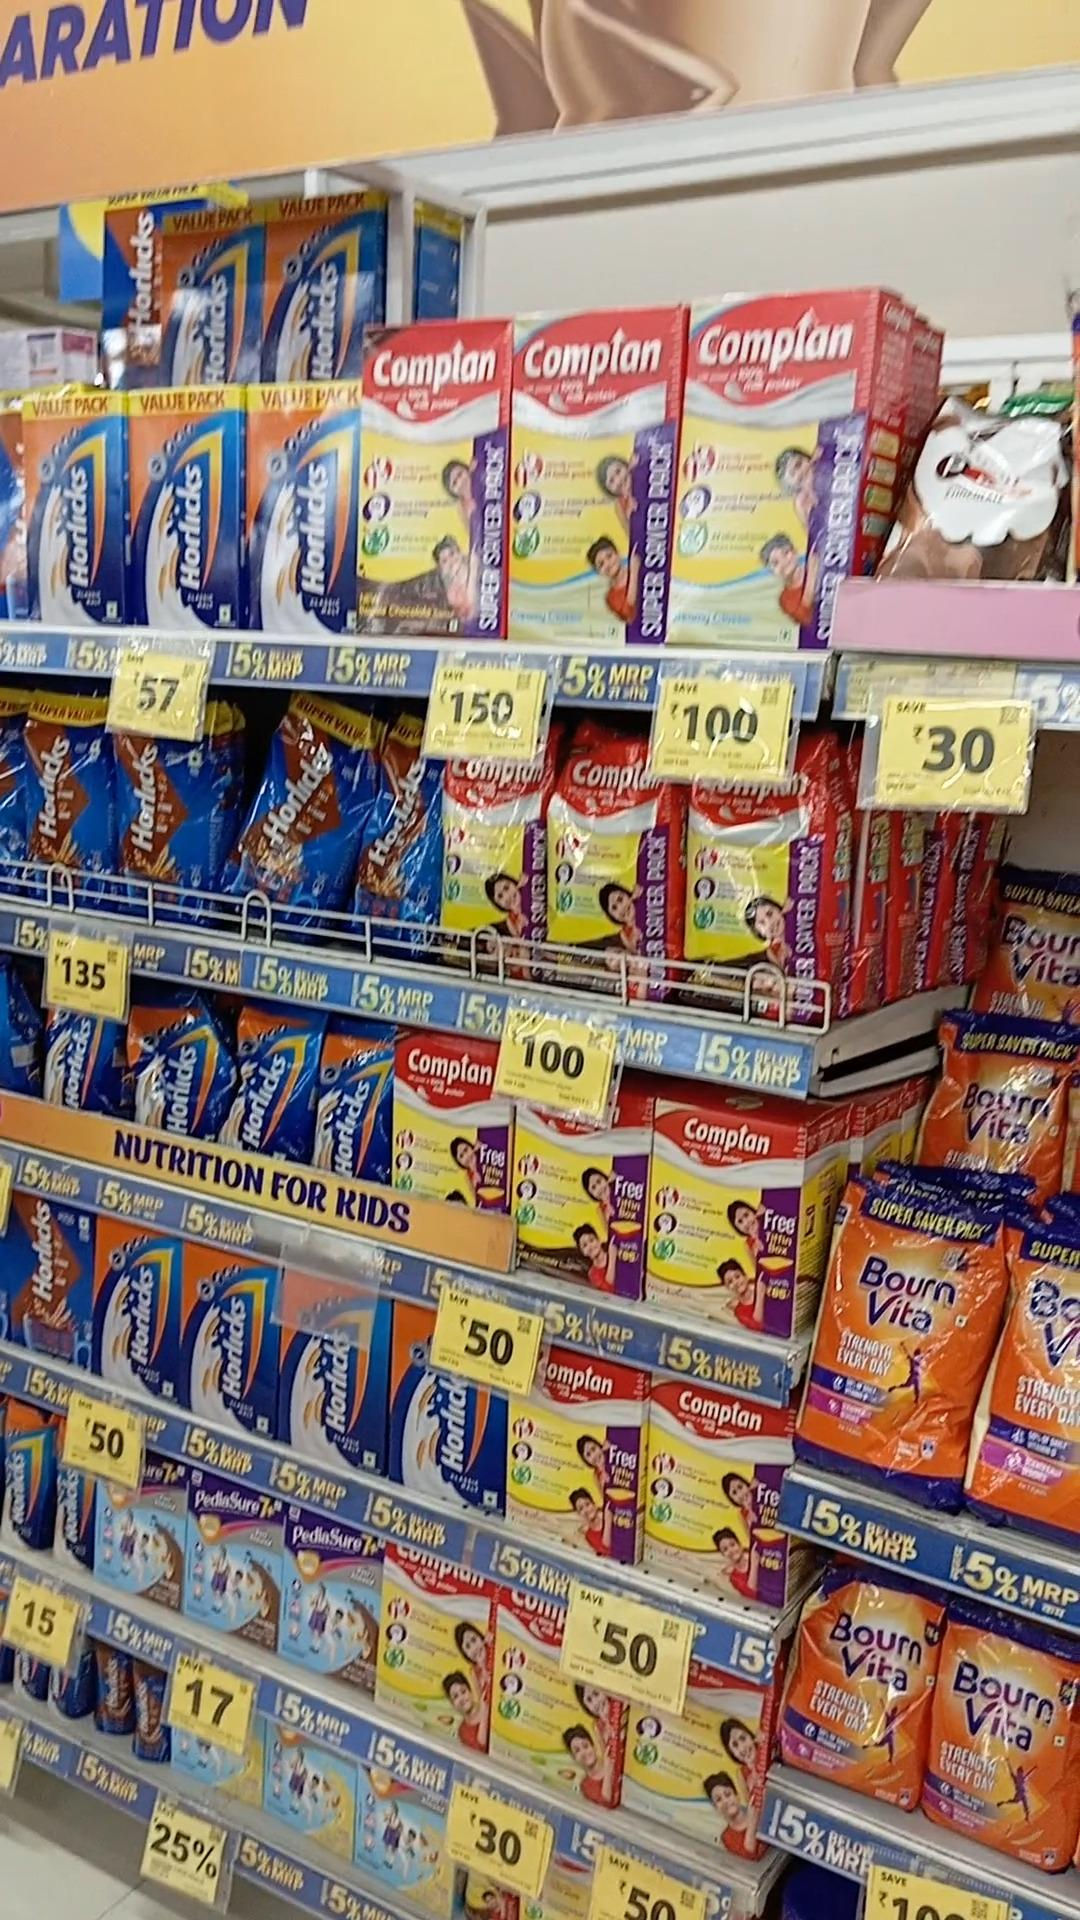BOURN_VITA_1_KG_POUCH: (819, 1185, 967, 1507)
BOURN_VITA_500_G_POUCH: (932, 1614, 1080, 1851), (787, 1571, 926, 1801)
COMPLAN_CHOCOLATE_500_GMS_PACK: (512, 1101, 644, 1300)
COMPLAN_KESAR_BADAM_500_GMS_PACK: (653, 1109, 808, 1328), (647, 1381, 782, 1604), (506, 1358, 638, 1559)
COMPLAN_PISTA_BADAM_500_GMS_PACK: (378, 1549, 485, 1754), (493, 1621, 611, 1796)
COMPLAN_RC_POUCH_700_GMS_12: (686, 783, 833, 1025), (545, 733, 674, 997), (442, 753, 542, 977)
HORLICK_CHOCOLATE_750_G_POUCH: (232, 703, 352, 936), (109, 725, 228, 924), (22, 690, 107, 915), (357, 712, 435, 956)
HORLICK_CLASSIC_MALT_200_G_JAR: (0, 1400, 49, 1559), (49, 1433, 96, 1577)
HORLICK_CLASSIC_MALT_500_G_PACK: (389, 1332, 502, 1511), (182, 1246, 272, 1439), (277, 1323, 388, 1477), (94, 1228, 177, 1407)
HORLICK_CLASSIC_MALT_750_G_POUCH: (127, 980, 225, 1141), (315, 1023, 398, 1184), (225, 1004, 309, 1155)
